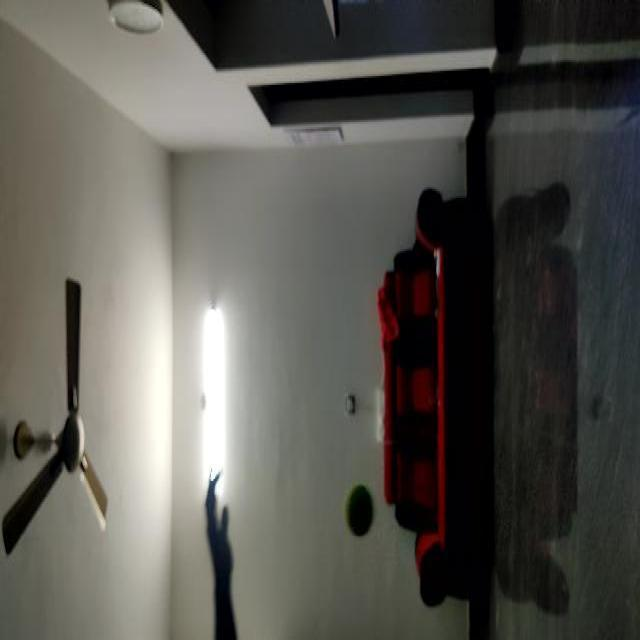tennis-ball: (344, 483, 373, 535)
